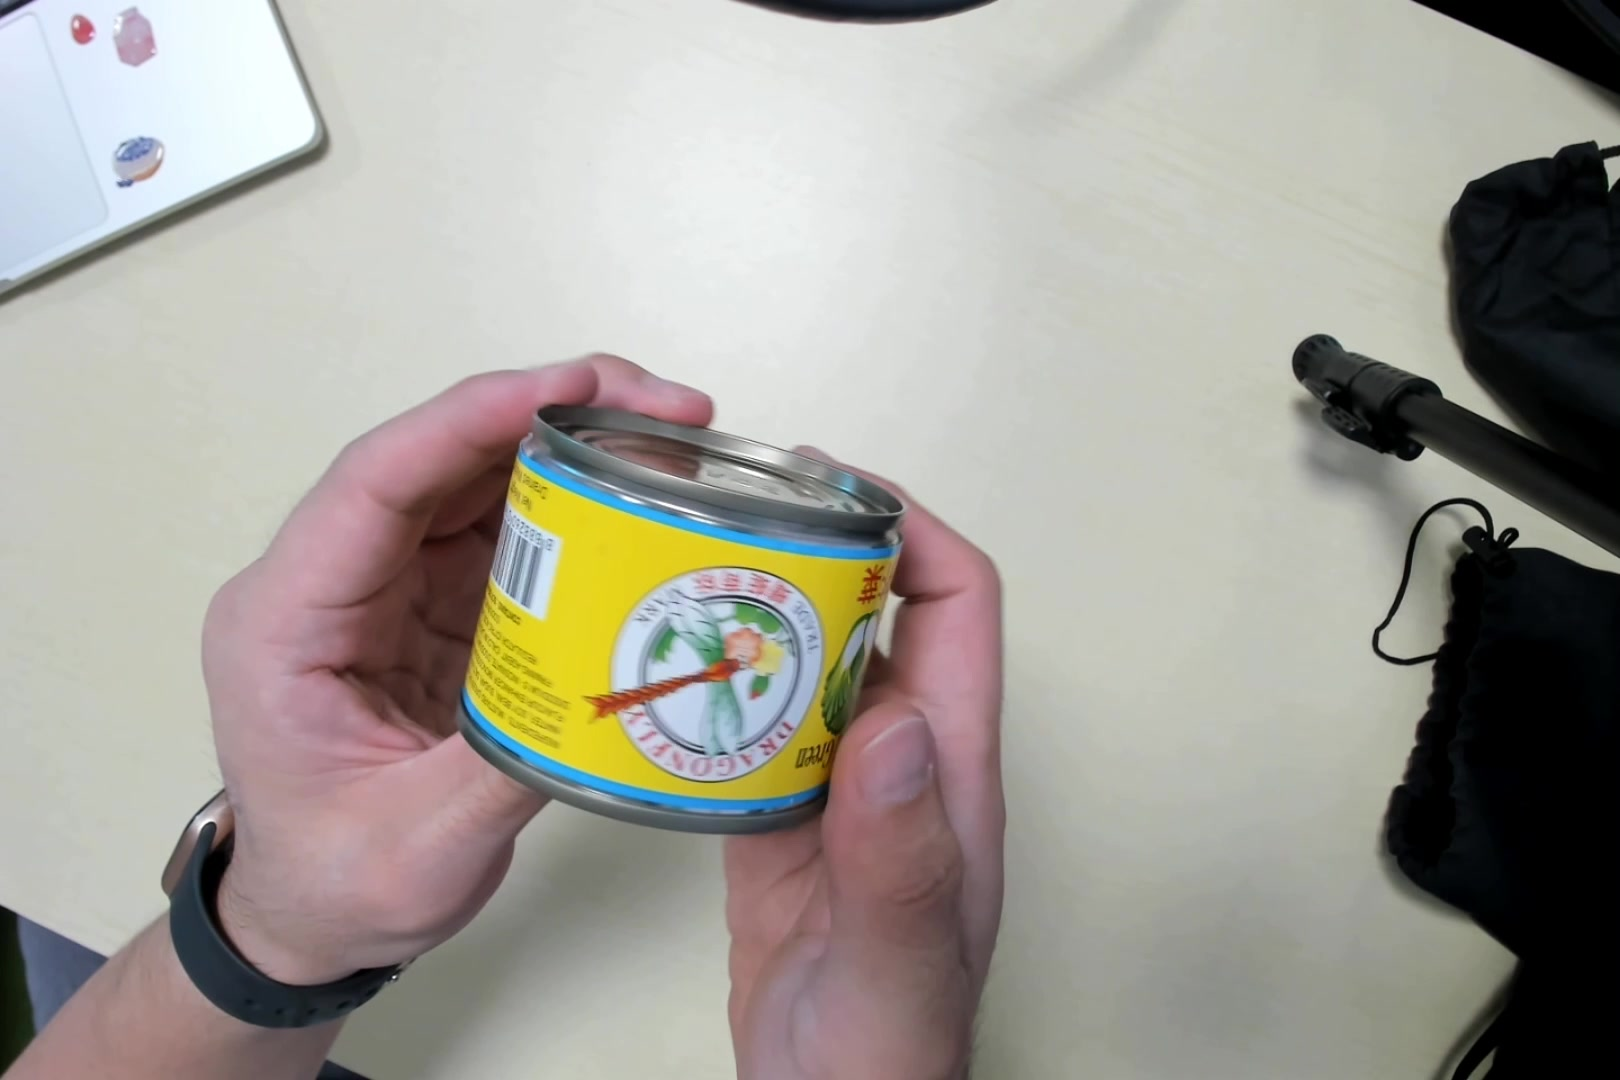CannedFruitsCocktail_0-99g_Halal_NonHealthy: (465, 429, 894, 823)
